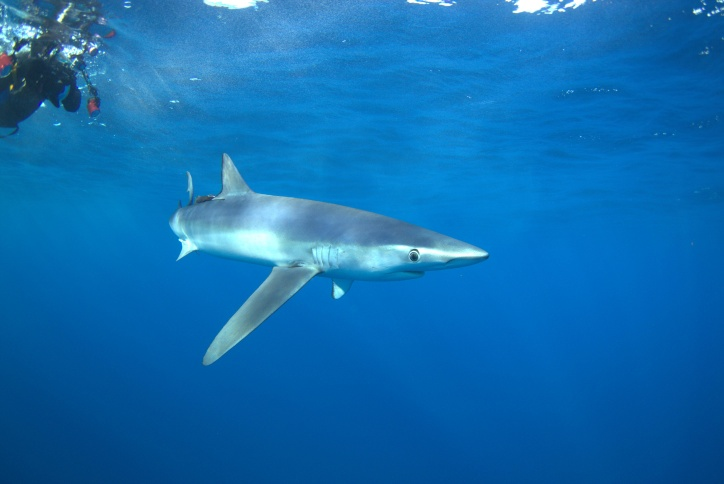Azul: (165, 155, 552, 375)
